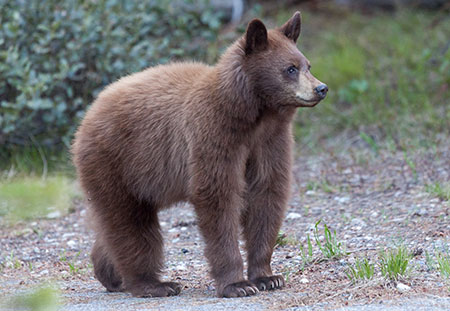bear: (241, 10, 331, 111)
